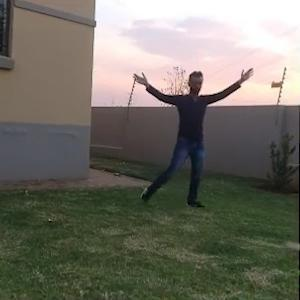takeoff: (130, 62, 257, 205)
